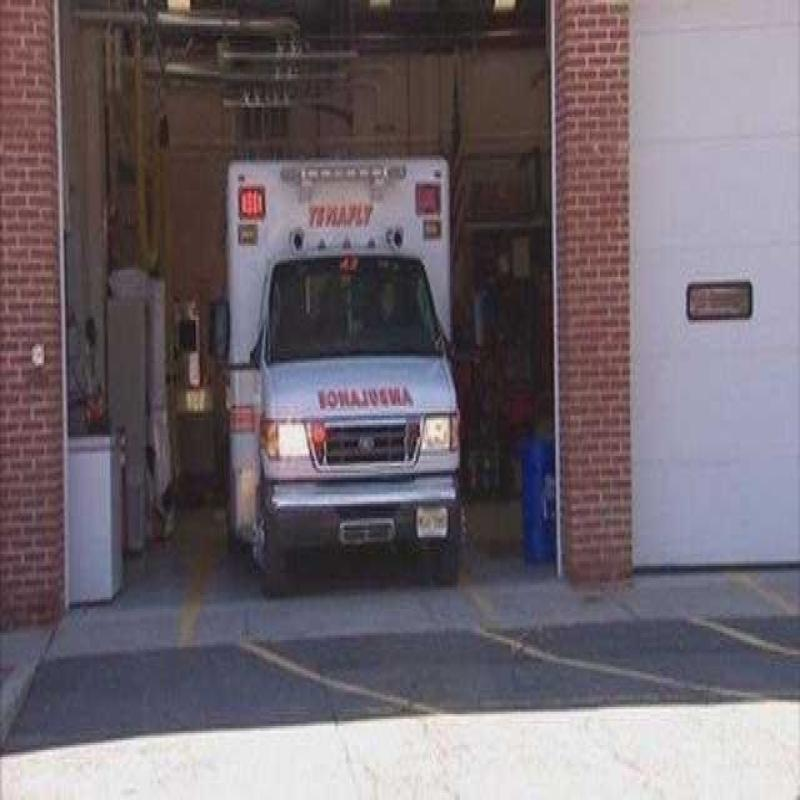AmbulanceSiren: (228, 179, 268, 255), (416, 174, 443, 263)
